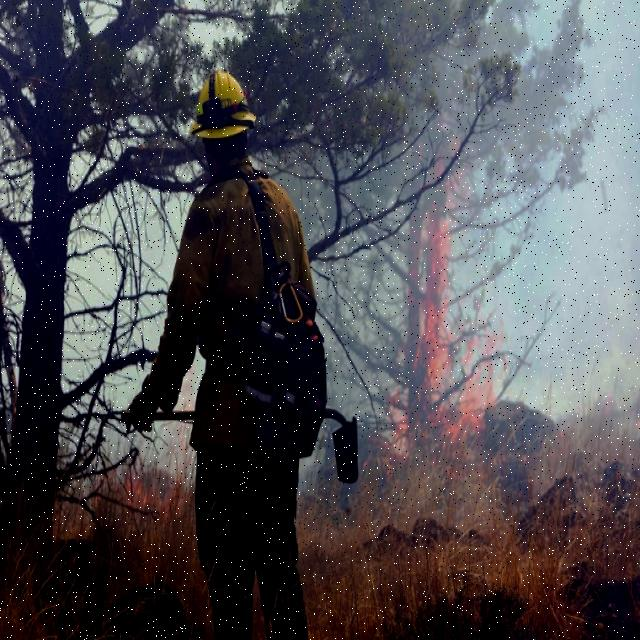api: (369, 118, 517, 492), (84, 434, 196, 530)
